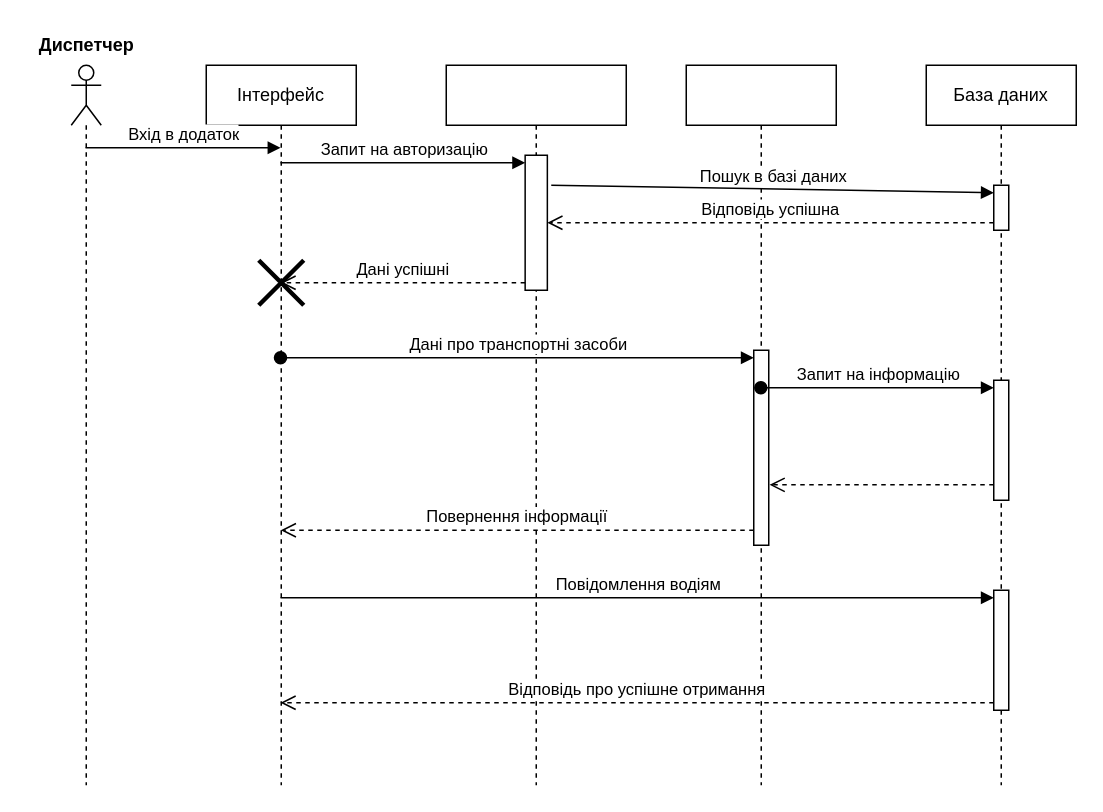
This 1103x812 diagram has some shape labels left out. Here are the shapes that lost their labels. From the top down, the box of each, then its label:
(445, 64, 626, 785): Авторизація
(685, 64, 836, 785): Модуль моніторингу
